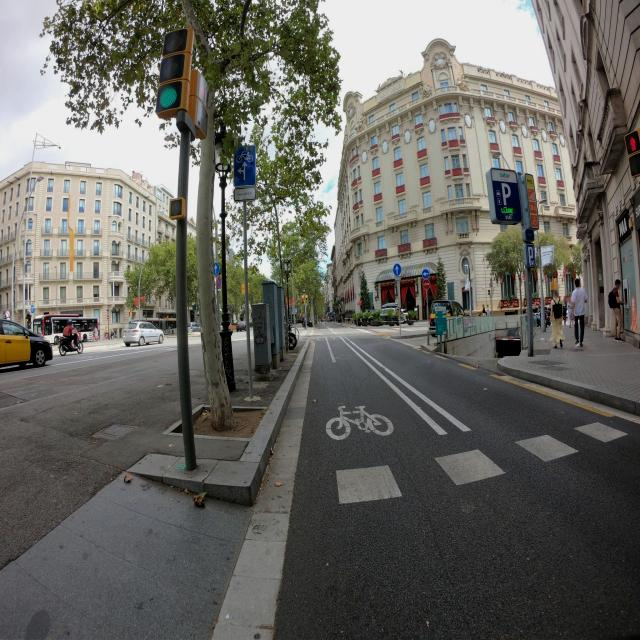car: (0, 317, 53, 376), (123, 321, 165, 346), (286, 318, 298, 349), (237, 316, 247, 332), (189, 322, 201, 333), (304, 316, 314, 328)
